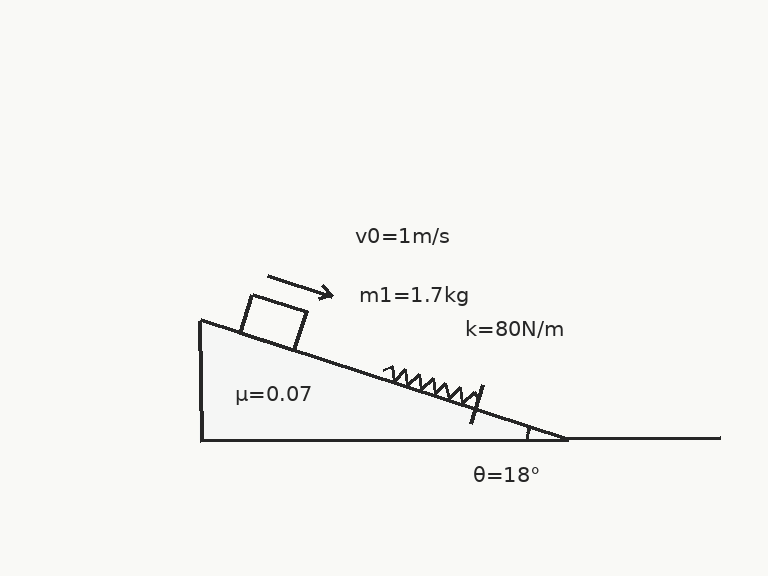block: (238, 292, 307, 352)
ramp: (198, 318, 569, 441)
spring: (381, 363, 480, 405)
